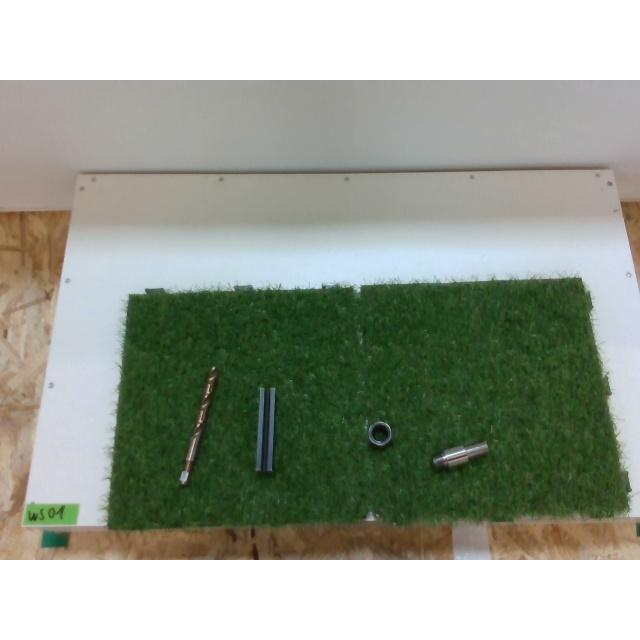Axis2: (432, 442, 488, 468)
Bearing2: (368, 420, 392, 448)
Drill: (179, 366, 219, 486)
F20_20_B: (256, 386, 276, 472)
